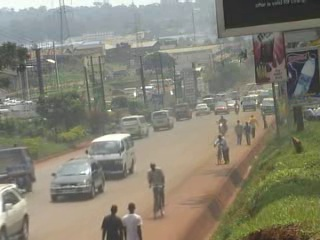Car: (47, 153, 107, 204), (0, 180, 35, 237), (191, 102, 209, 118), (212, 101, 228, 116), (226, 99, 234, 112)
Motorcycle: (214, 115, 230, 139), (231, 101, 241, 115)
